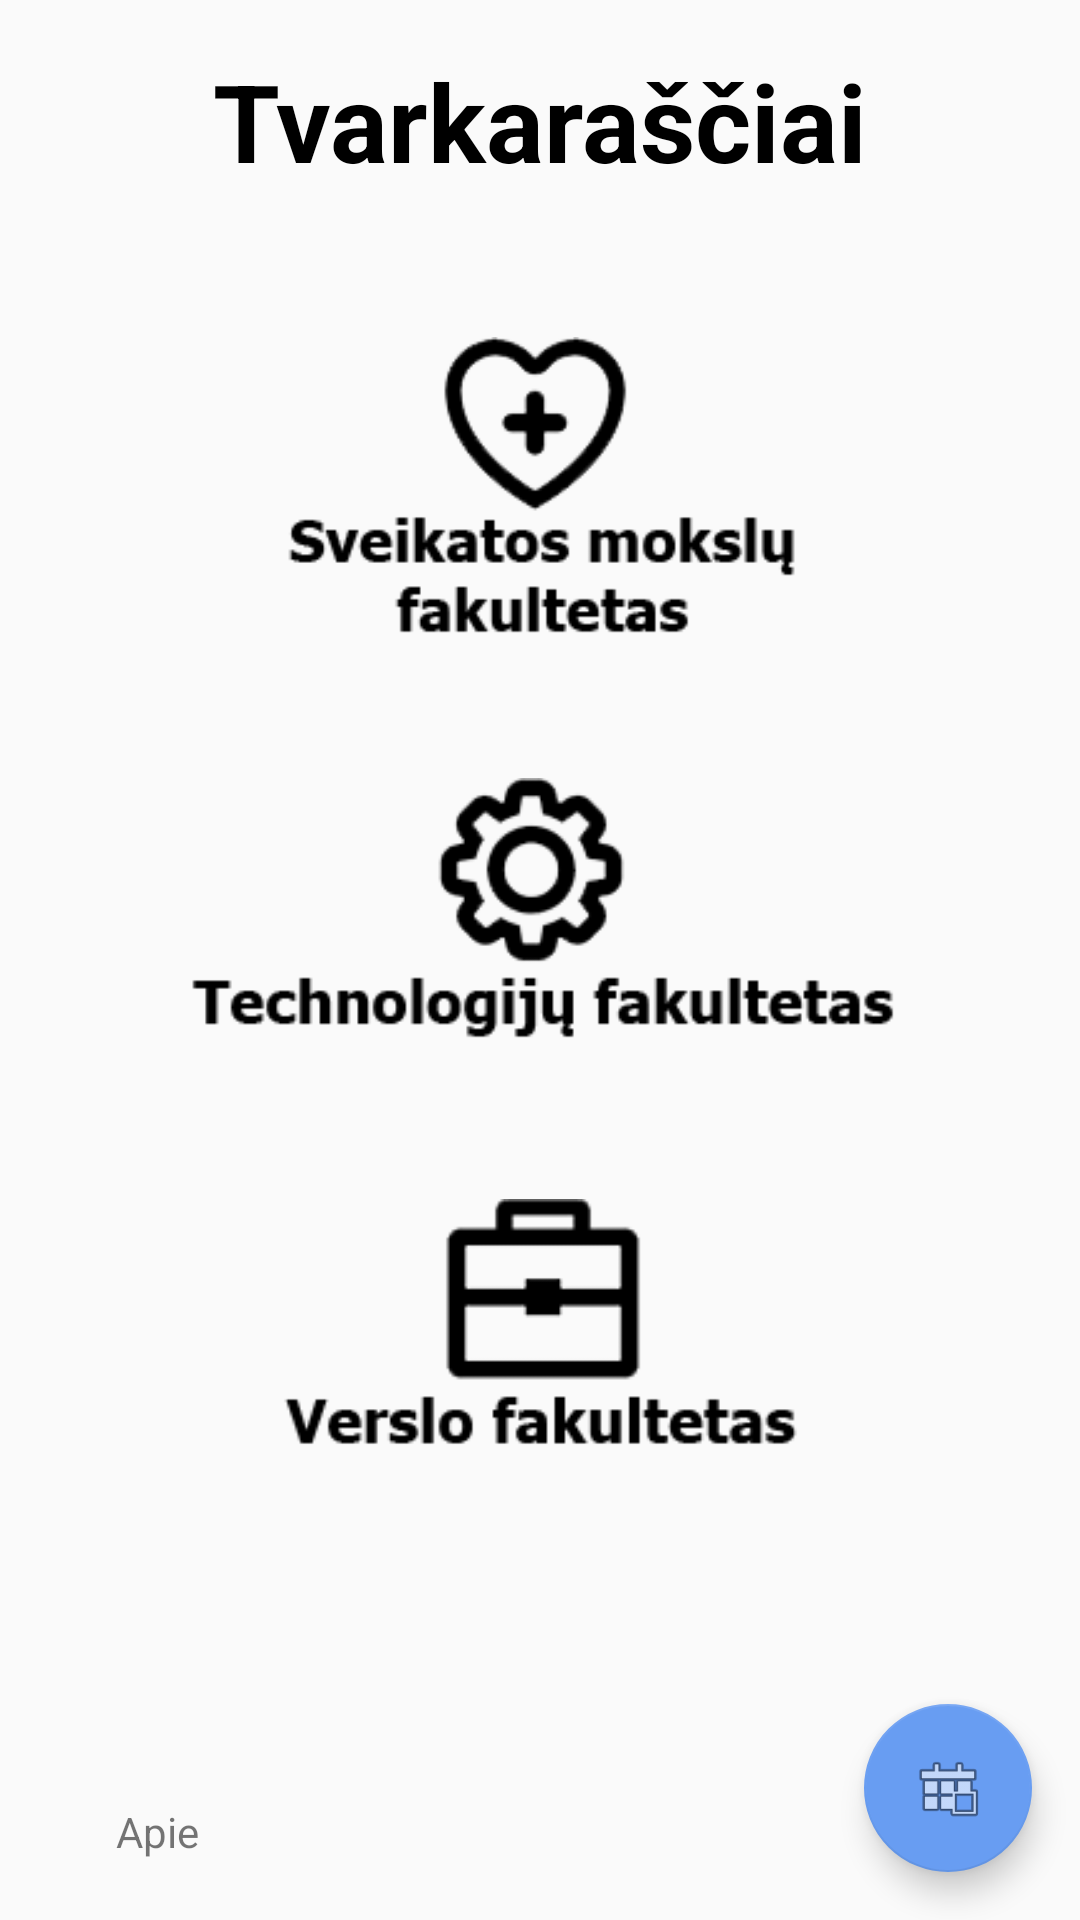

Locate icon controls on the screen. Image size 1080w x 1920h, boxes as (x1, y1, x2, y2).
today: (864, 1704, 1032, 1872)
